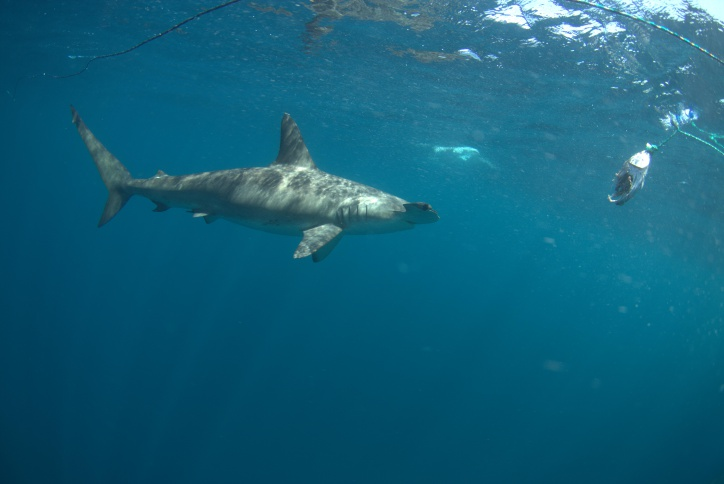Hammer: (63, 105, 450, 283)
